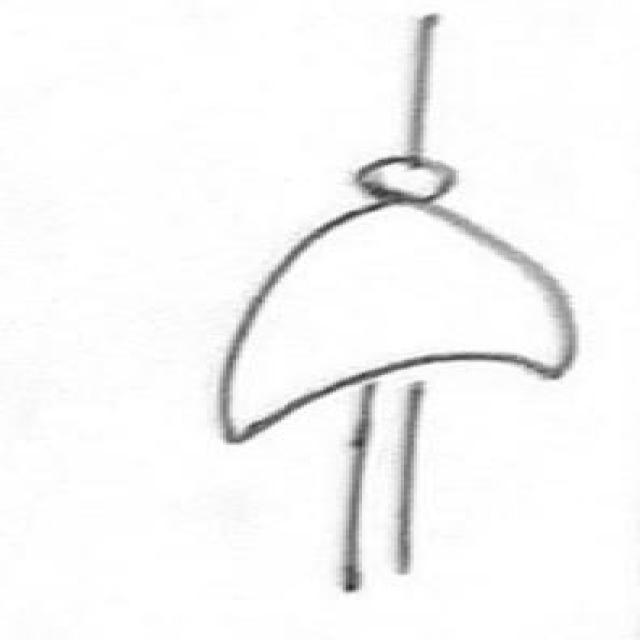NOR: (184, 126, 630, 448)
